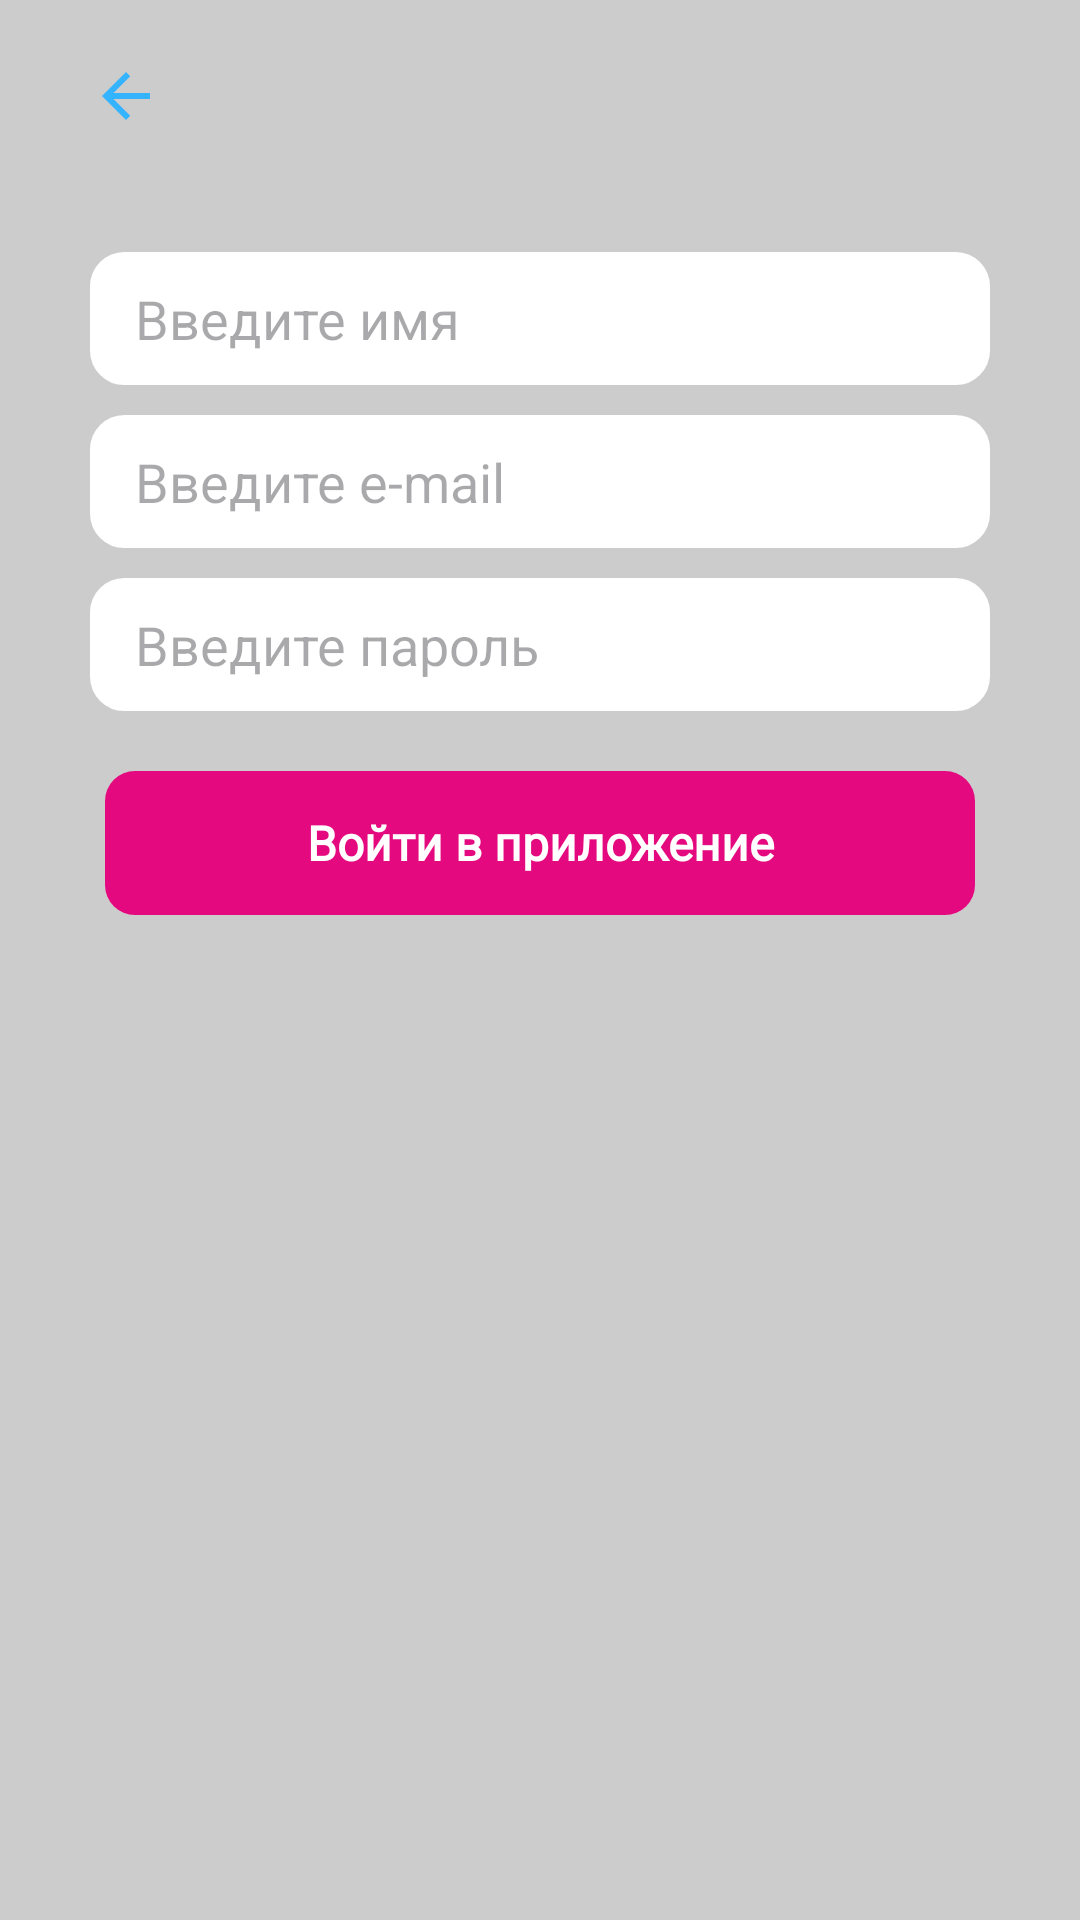

Icons on this 1080x1920 Android screen, each with its box as (x1, y1, x2, y2):
arrow back: (102, 72, 150, 120)
